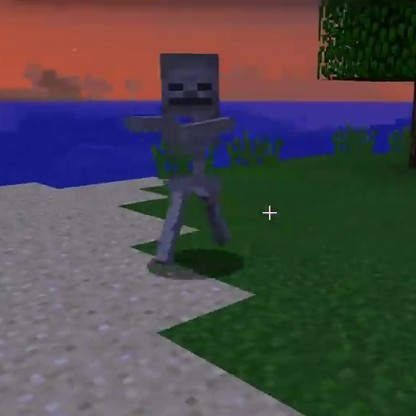skeleton: (145, 50, 236, 255)
